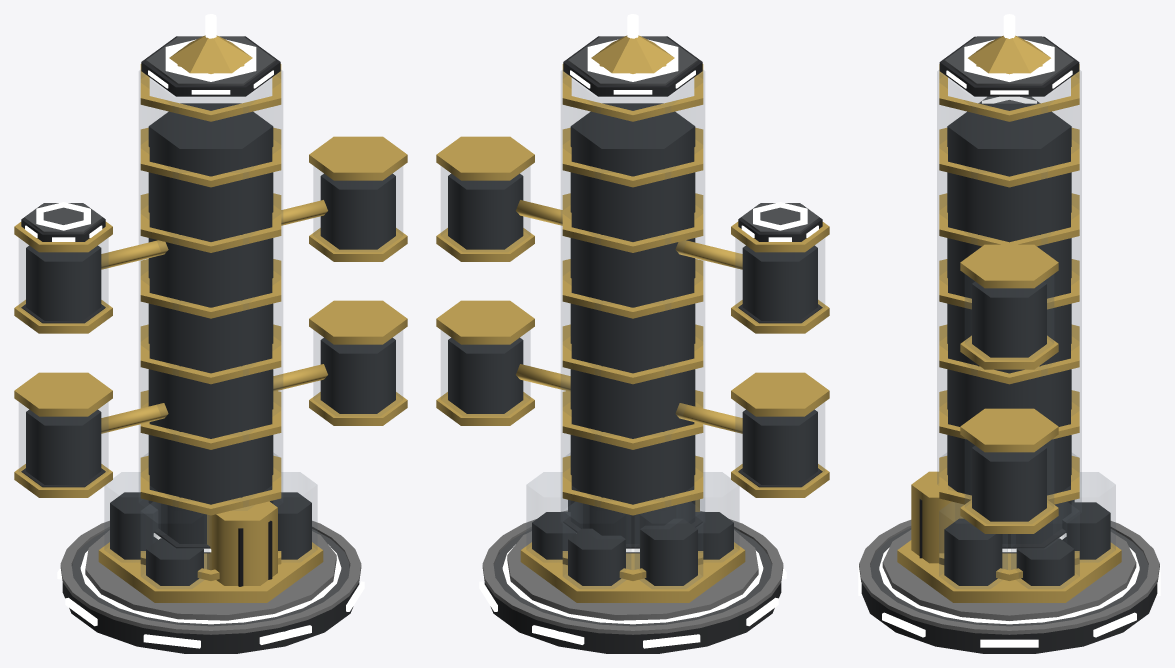
File: Skin_Hive_T4.glb
The picture shows the model from 3 angles, left to right: view 1: azimuth 30°, elevation 25°; view 2: azimuth 150°, elevation 25°; view 3: azimuth 270°, elevation 25°; orthographic projection.
Visible parts, largest first — view 1: Skin_Hive_T4; view 2: Skin_Hive_T4; view 3: Skin_Hive_T4.
Part boxes in pixels (x1,y1,x2,y2): Skin_Hive_T4: (14, 14, 407, 653); Skin_Hive_T4: (436, 14, 829, 653); Skin_Hive_T4: (858, 14, 1160, 653).
Bounding box in the file's own units: 5.88 × 8.78 × 4.18.
